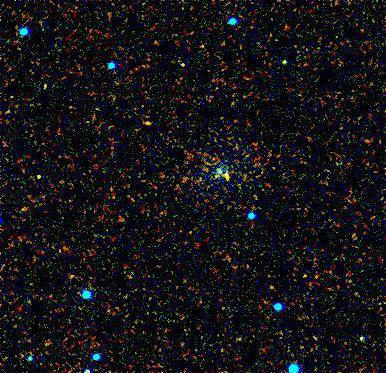star: (213, 160, 243, 190)
